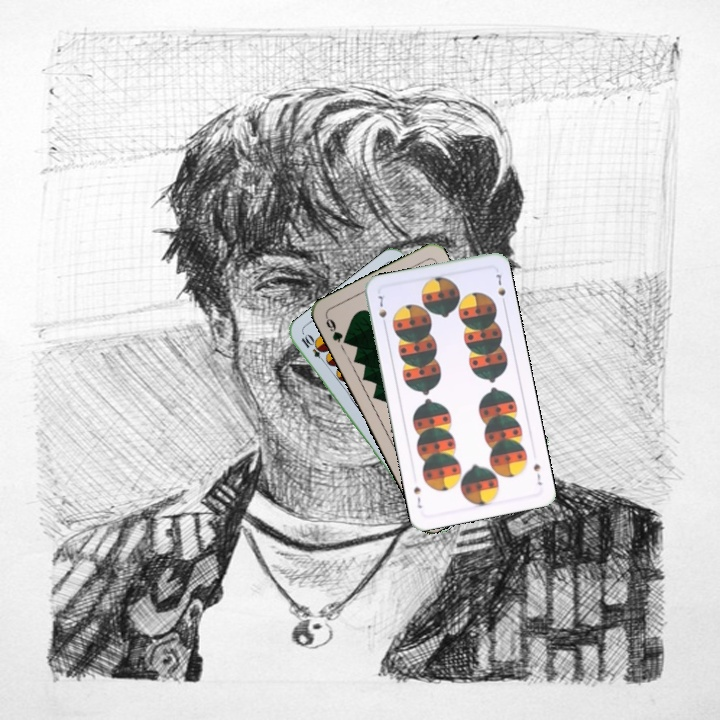E10: (297, 330, 329, 366)
G9: (322, 313, 351, 347)
S7: (374, 290, 389, 330), (529, 460, 545, 488)
